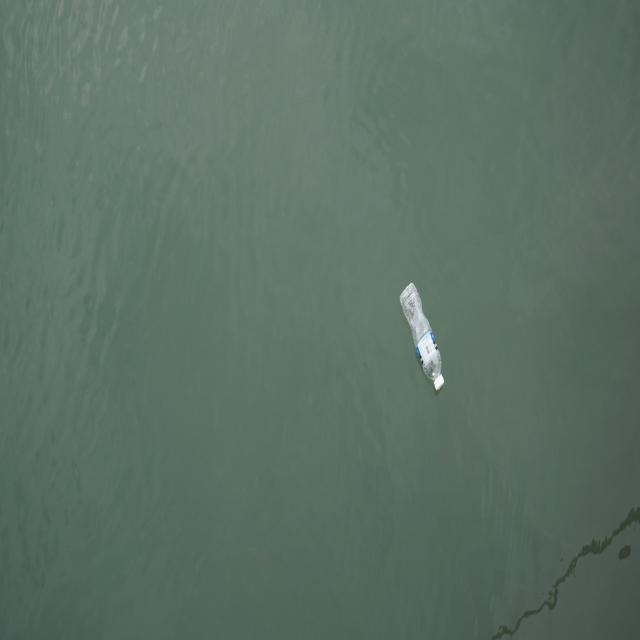Botol Plastik: (397, 279, 448, 394)
